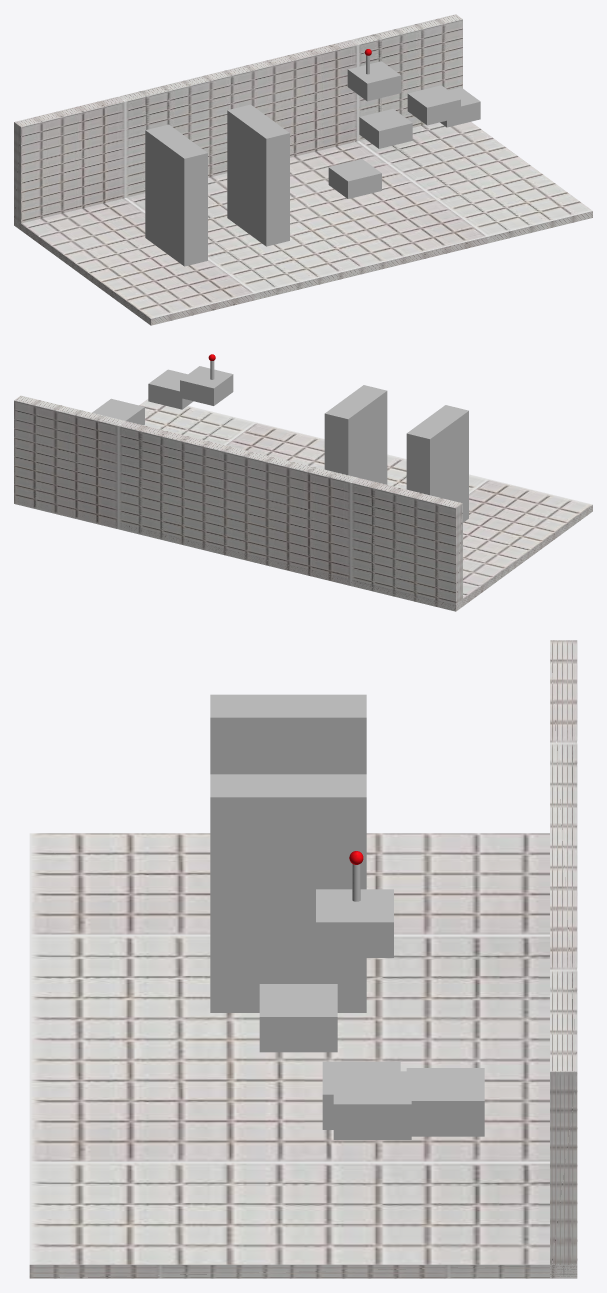
The model's file is haikei.FBX.
3 renders of one model, top to bottom at view 1: azimuth 30°, elevation 25°; view 2: azimuth 150°, elevation 25°; view 3: azimuth 270°, elevation 25°, orthographic. The views are drawn at different scales.
Visible parts, largest first — view 1: Box001, Box002, Box009, Box008, Box003, Box004, Box006, Box007, Box005; view 2: Box002, Box001, Box009, Box008, Box007, Box006, Box005; view 3: Box001, Box008, Box002, Box009, Box005, Box006, Box007, Box004, Box003.
Boxes of the visible parts, left/top/right/bottom form: Box001: left=14, top=122, right=592, bottom=325; Box002: left=14, top=14, right=462, bottom=227; Box009: left=145, top=124, right=207, bottom=266; Box008: left=227, top=104, right=289, bottom=246; Box003: left=328, top=159, right=381, bottom=198; Box004: left=359, top=109, right=412, bottom=148; Box006: left=407, top=85, right=460, bottom=125; Box007: left=347, top=61, right=401, bottom=101; Box005: left=440, top=87, right=480, bottom=127; Box002: left=14, top=395, right=462, bottom=611; Box001: left=14, top=399, right=592, bottom=611; Box009: left=406, top=405, right=468, bottom=522; Box008: left=324, top=385, right=387, bottom=484; Box007: left=180, top=366, right=233, bottom=405; Box006: left=148, top=369, right=193, bottom=409; Box005: left=92, top=398, right=144, bottom=425; Box001: left=29, top=833, right=577, bottom=1278; Box008: left=210, top=774, right=366, bottom=1012; Box002: left=550, top=640, right=577, bottom=1278; Box009: left=210, top=694, right=366, bottom=774; Box005: left=333, top=1071, right=411, bottom=1139; Box006: left=259, top=984, right=337, bottom=1052; Box007: left=316, top=889, right=393, bottom=957; Box004: left=406, top=1068, right=484, bottom=1136; Box003: left=322, top=1061, right=400, bottom=1129.
Bounding box in the file's own units: 1502 × 806 × 467.
